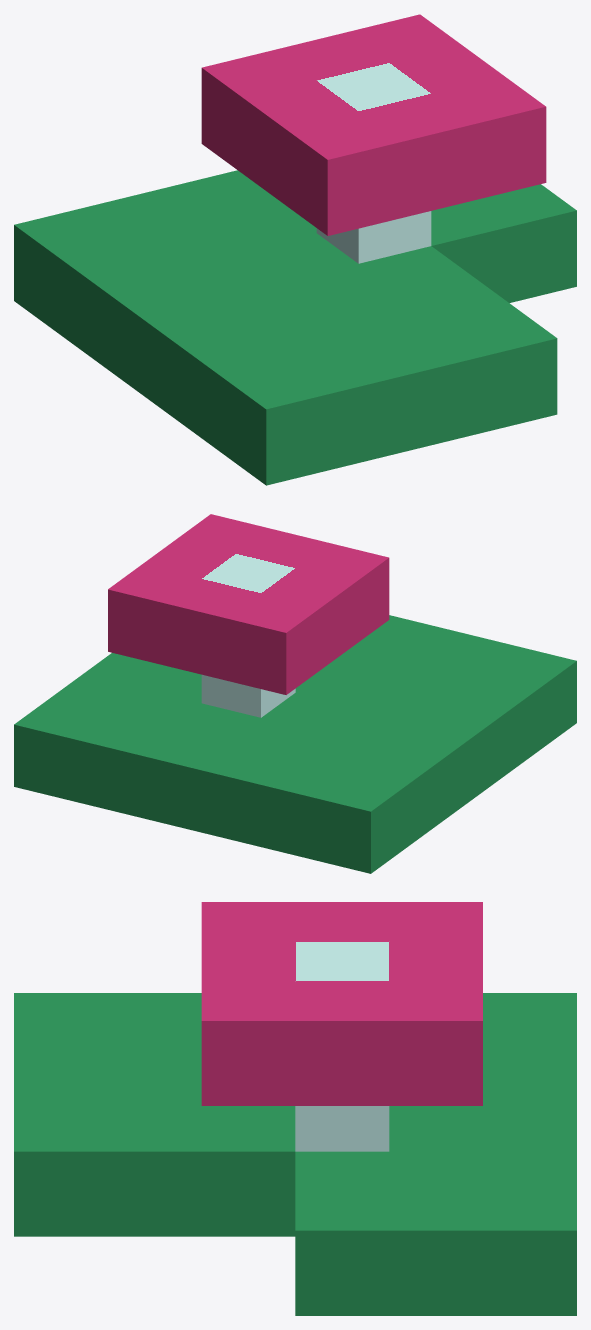
The model's file is lily.dae.
3 renders of one model, top to bottom at view 1: azimuth 30°, elevation 25°; view 2: azimuth 150°, elevation 25°; view 3: azimuth 270°, elevation 25°, orthographic. The views are drawn at different scales.
Parts seen in each view (by area): view 1: lily.merged; view 2: lily.merged; view 3: lily.merged.
Part boxes in pixels (x1,y1,x2,y2): lily.merged: [14, 14, 576, 485]; lily.merged: [14, 514, 576, 873]; lily.merged: [14, 902, 576, 1315].
Bounding box in the file's own units: 0.6 × 0.3 × 0.6.
1 material, 1 textured.
